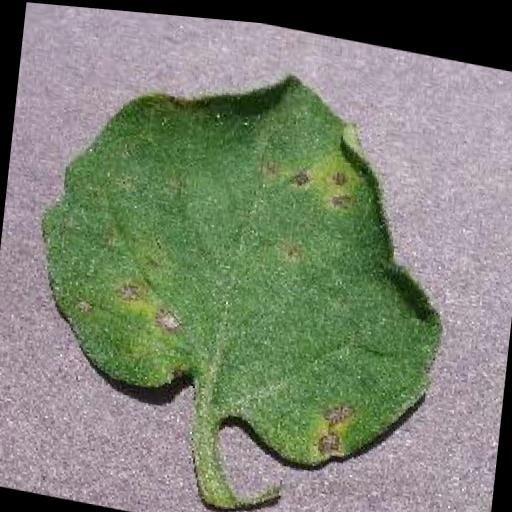Septoria: (24, 25, 468, 482)
